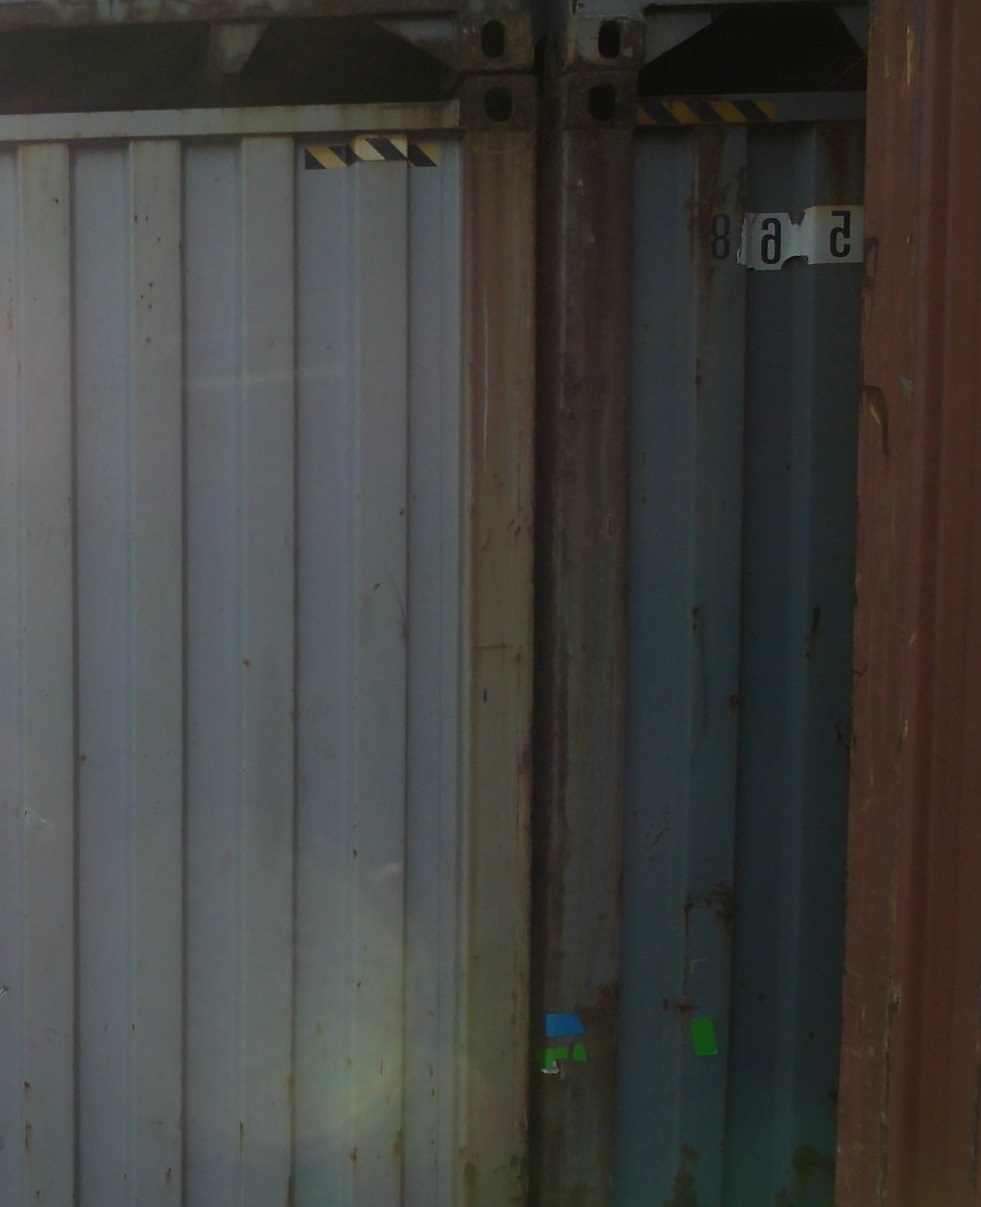container_no_door: (1, 105, 536, 1207)
